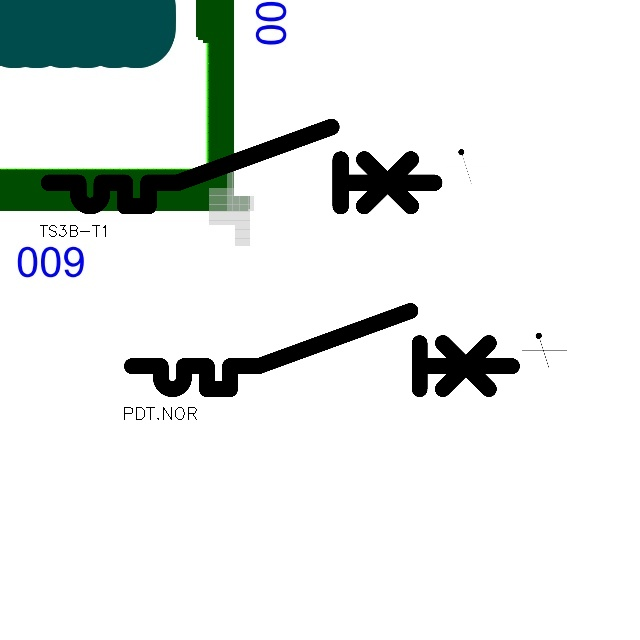interruptor_termomagnetico: (39, 117, 444, 216), (122, 301, 522, 399)
